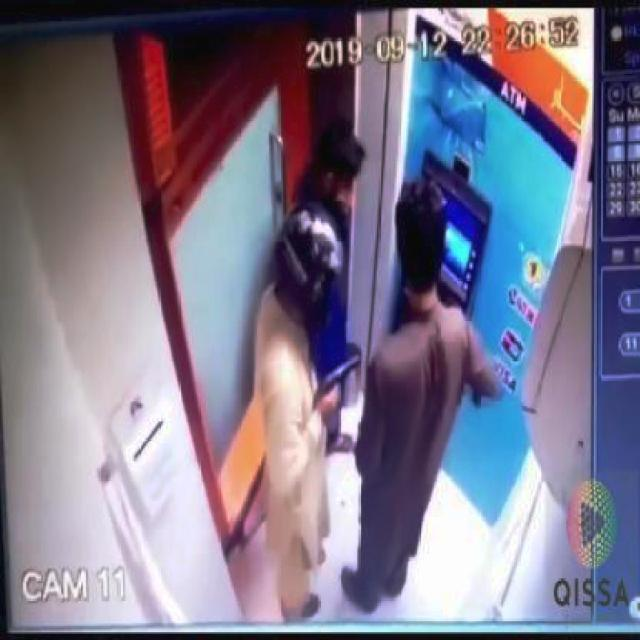Gun: (319, 345, 365, 393)
